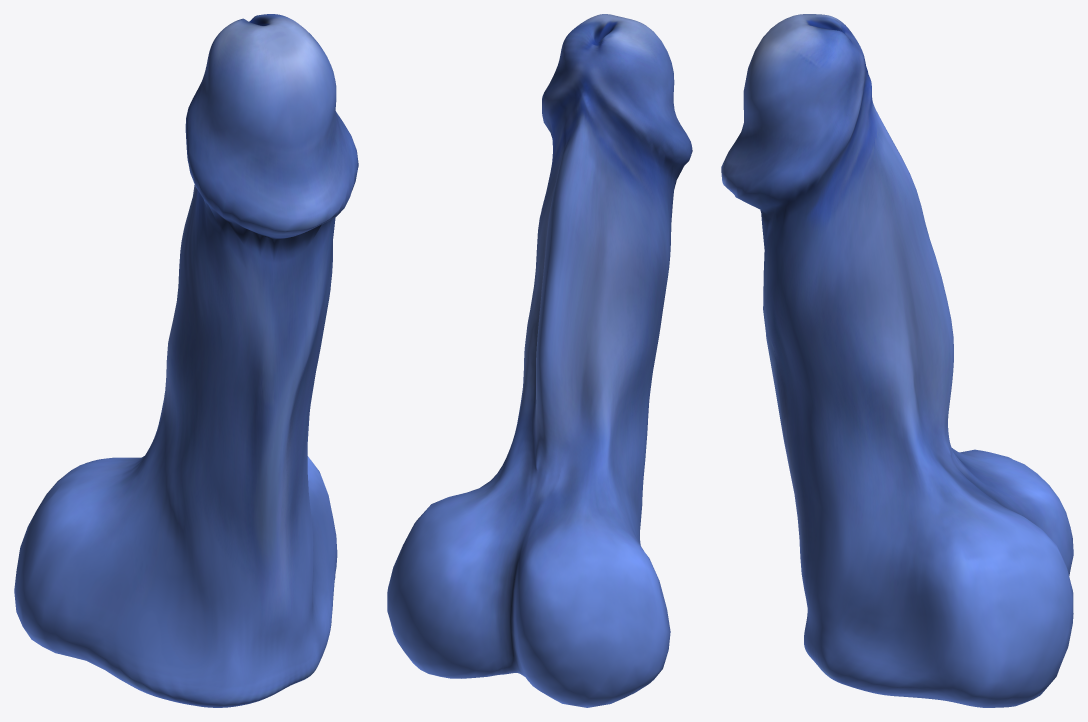
The model's file is digglb.glb.
3 renders of one model, left to right at view 1: azimuth 30°, elevation 25°; view 2: azimuth 150°, elevation 25°; view 3: azimuth 270°, elevation 25°, orthographic. The views are drawn at different scales.
Visible parts, largest first — view 1: beins; view 2: beins; view 3: beins.
Boxes of the visible parts, x1,y1,x2,y2 form: beins: (14,14,358,707); beins: (387,14,692,707); beins: (721,14,1073,707).
Size of the model in its own units: 129800 by 278581 by 137881.
1 material, 1 textured.
